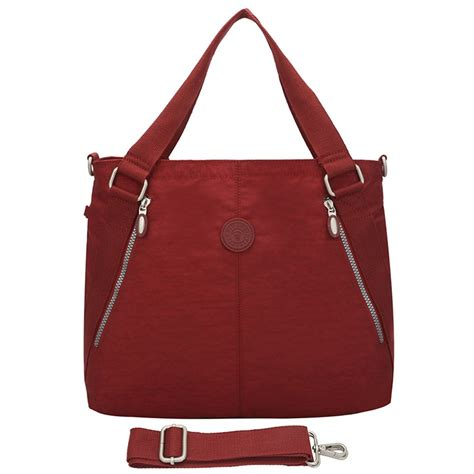nylon: (81, 153, 400, 419)
